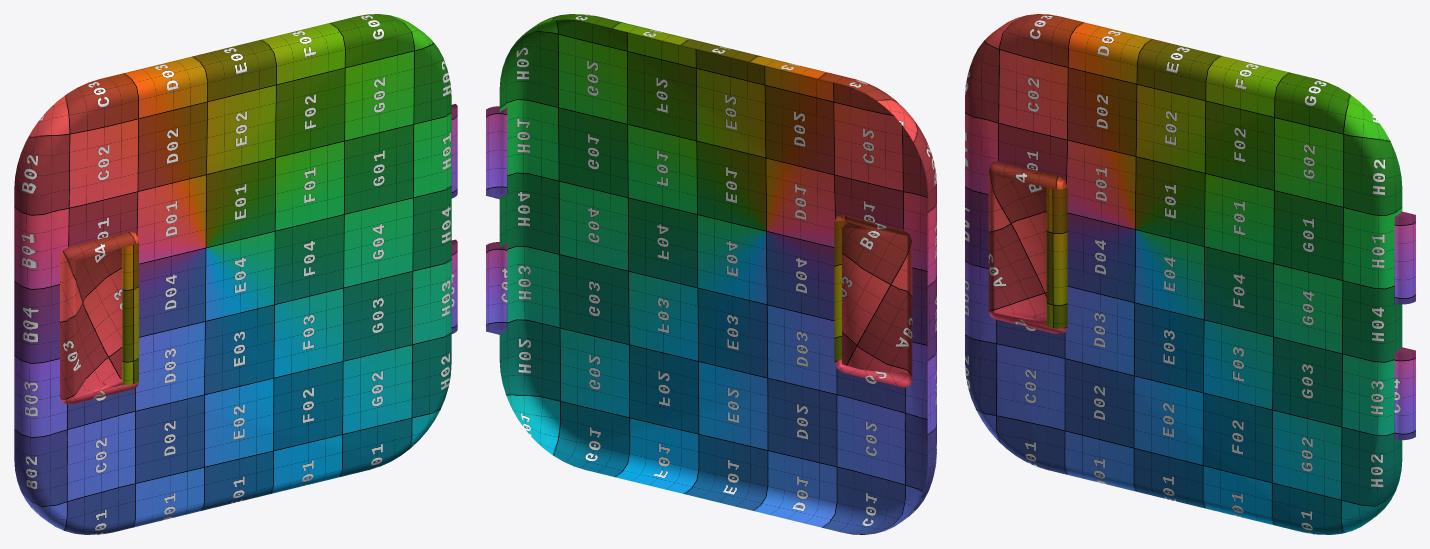
The model's file is Smallsmooth_low.fbx.
3 views of the same model, side by side, from view 1: azimuth 30°, elevation 25°; view 2: azimuth 150°, elevation 25°; view 3: azimuth 330°, elevation 25° (orthographic).
Visible parts, largest first — view 1: SmallSmooth_low; view 2: SmallSmooth_low; view 3: SmallSmooth_low.
Part boxes in pixels (x1,y1,x2,y2): SmallSmooth_low: [14, 14, 457, 534]; SmallSmooth_low: [486, 14, 936, 534]; SmallSmooth_low: [965, 14, 1415, 534].
Size of the model in its own units: 88.19 by 85.5 by 7.04.
